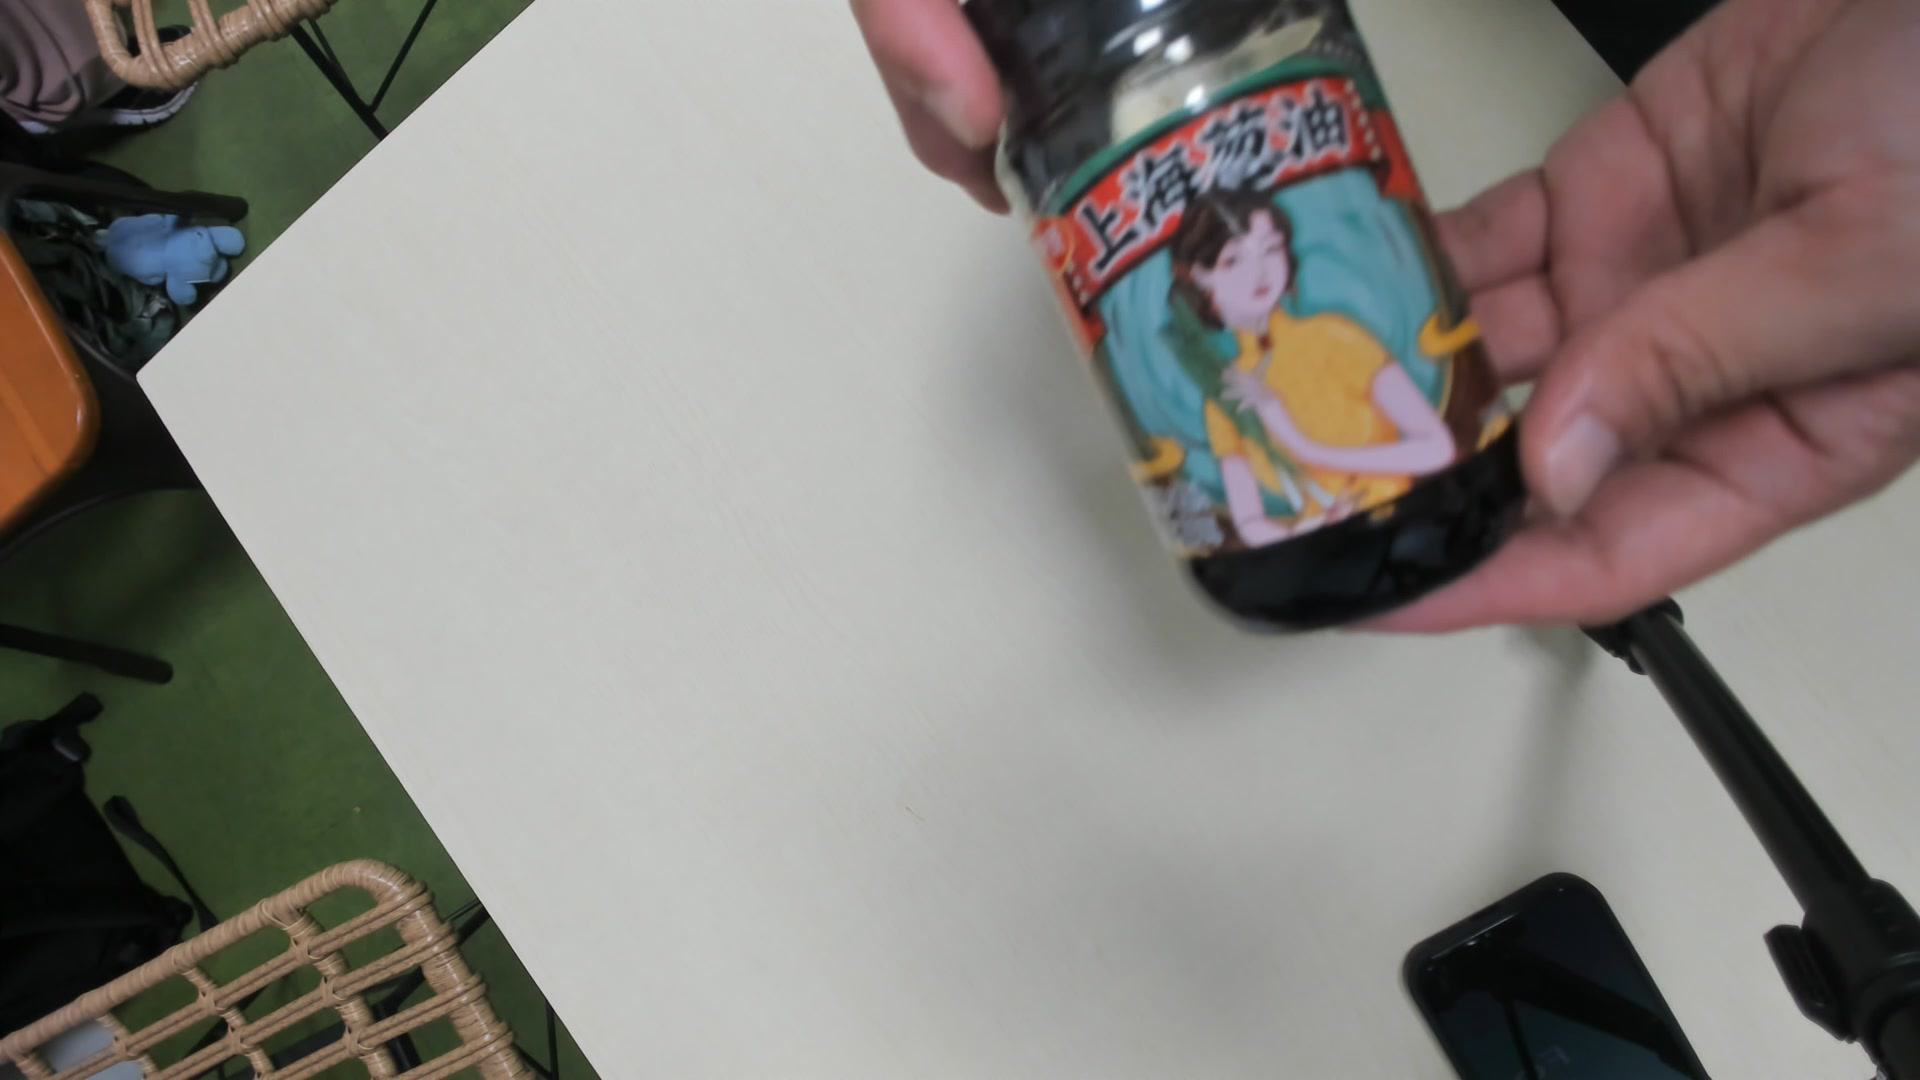OtherSauceDressing_200-299g_NonHalal_NonHealthy: (969, 1, 1530, 630)
